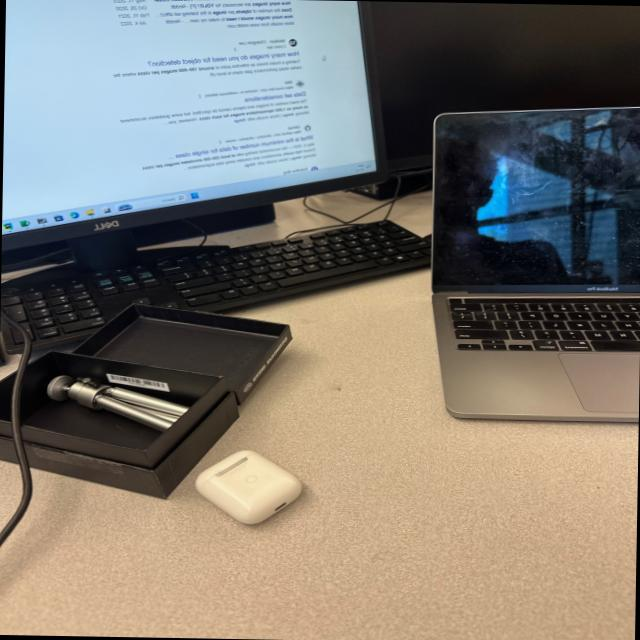monitor: (0, 208, 435, 371), (446, 290, 640, 362)
robotic-arm: (1, 0, 394, 257)
